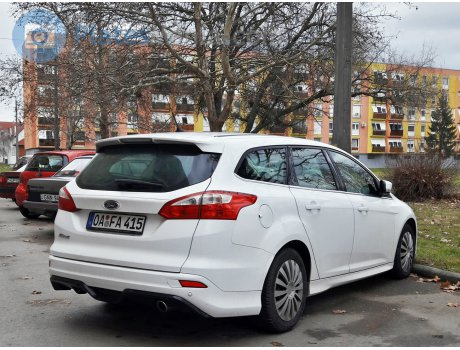License Plates: (96, 212, 138, 226)
